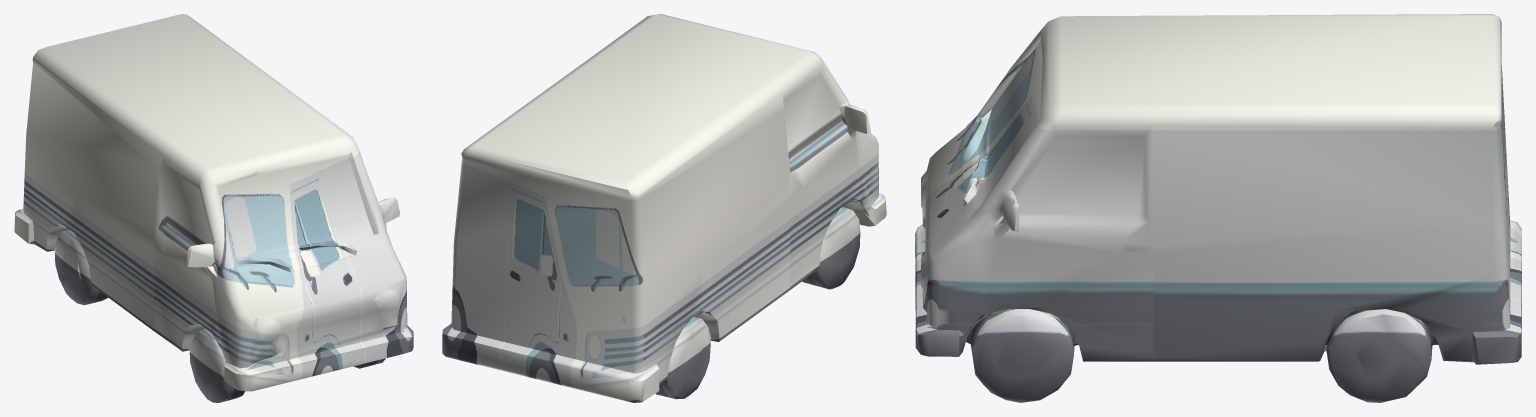
3 renders of one model, left to right at view 1: azimuth 30°, elevation 25°; view 2: azimuth 150°, elevation 25°; view 3: azimuth 270°, elevation 25°, orthographic. The views are drawn at different scales.
Visible parts, largest first — view 1: Decor_delivery_van_c; view 2: Decor_delivery_van_c; view 3: Decor_delivery_van_c.
Boxes of the visible parts, <box> form: Decor_delivery_van_c: <box>14,14,413,402</box>; Decor_delivery_van_c: <box>442,14,886,402</box>; Decor_delivery_van_c: <box>915,14,1521,402</box>.
Bounding box in the file's own units: 2.23 × 2.2 × 4.14.
Materials: 1 (1 with a texture image).
